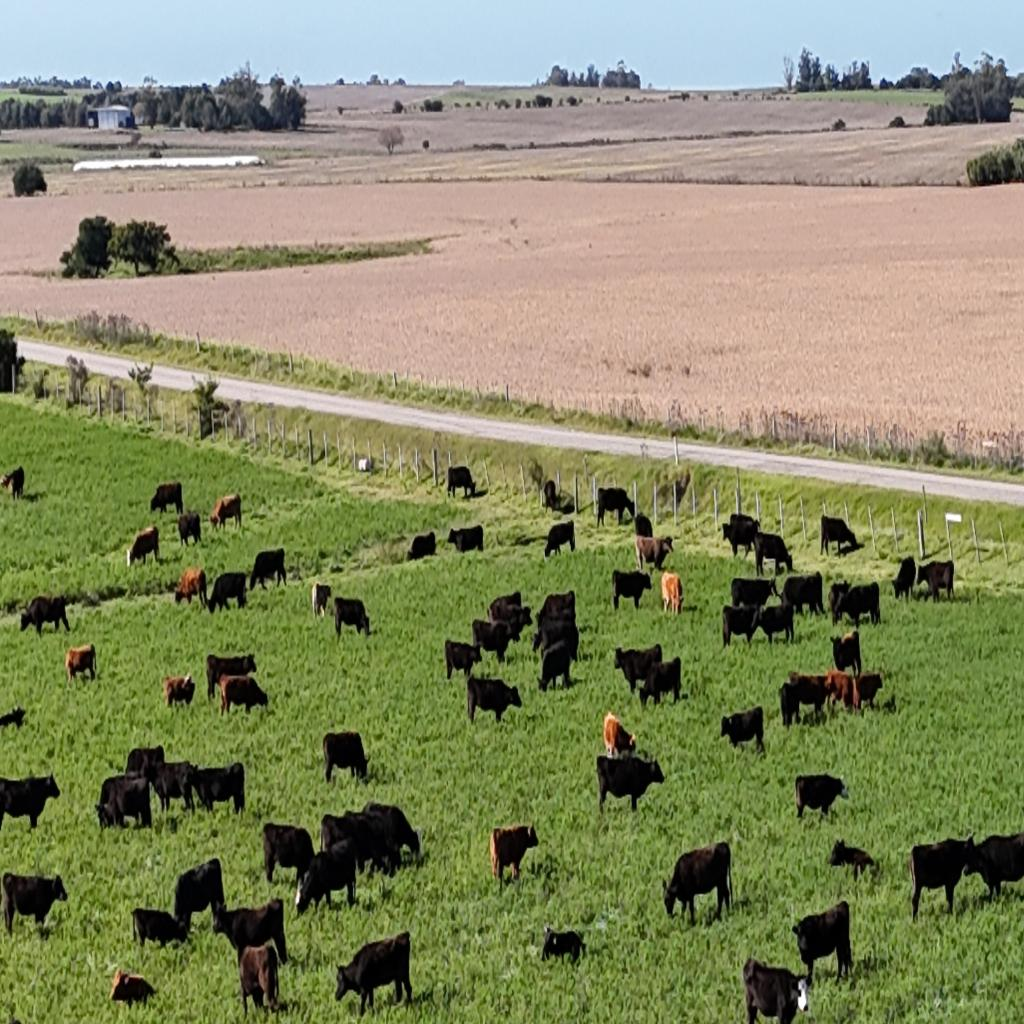cow: (334, 936, 412, 1018), (662, 843, 729, 927), (907, 836, 973, 918), (211, 895, 287, 966), (792, 902, 854, 988), (0, 869, 69, 936), (321, 811, 387, 879), (294, 844, 358, 914), (963, 832, 1023, 903), (743, 957, 808, 1022), (597, 750, 662, 814), (358, 802, 422, 866), (0, 772, 61, 834), (172, 857, 224, 926), (262, 822, 316, 888), (238, 942, 280, 1017), (98, 773, 152, 830), (490, 824, 538, 888), (464, 675, 524, 726), (192, 764, 246, 816), (795, 772, 849, 820), (150, 759, 198, 813), (131, 906, 189, 950), (322, 730, 368, 784), (614, 645, 662, 696), (829, 839, 882, 885), (781, 674, 828, 724), (831, 672, 885, 715), (207, 654, 255, 701), (637, 657, 681, 707), (830, 583, 875, 630), (470, 620, 516, 665), (720, 707, 764, 754), (537, 640, 575, 692), (20, 595, 68, 636), (751, 530, 792, 578), (780, 574, 822, 620), (540, 924, 584, 966), (753, 602, 795, 646), (722, 604, 764, 648), (109, 966, 155, 1006), (611, 568, 652, 610), (820, 513, 859, 557), (721, 516, 760, 560), (916, 559, 954, 604), (208, 570, 248, 612), (333, 596, 371, 640), (634, 534, 674, 574), (444, 639, 482, 681), (492, 603, 532, 642), (602, 711, 635, 758), (731, 576, 776, 610), (596, 486, 634, 526), (535, 591, 577, 627), (830, 628, 862, 675), (250, 550, 286, 590), (125, 745, 166, 779), (64, 644, 97, 686), (162, 673, 196, 711), (543, 521, 576, 560), (209, 494, 241, 533), (129, 526, 160, 566), (174, 569, 206, 607), (150, 480, 183, 516), (892, 555, 916, 602), (448, 525, 484, 555), (488, 591, 524, 621), (660, 571, 683, 617), (446, 465, 476, 499), (177, 511, 201, 547), (408, 531, 436, 561), (1, 466, 25, 500), (310, 581, 331, 619), (96, 800, 122, 830), (778, 682, 793, 730), (0, 705, 25, 732), (634, 512, 653, 539), (542, 479, 558, 511)
